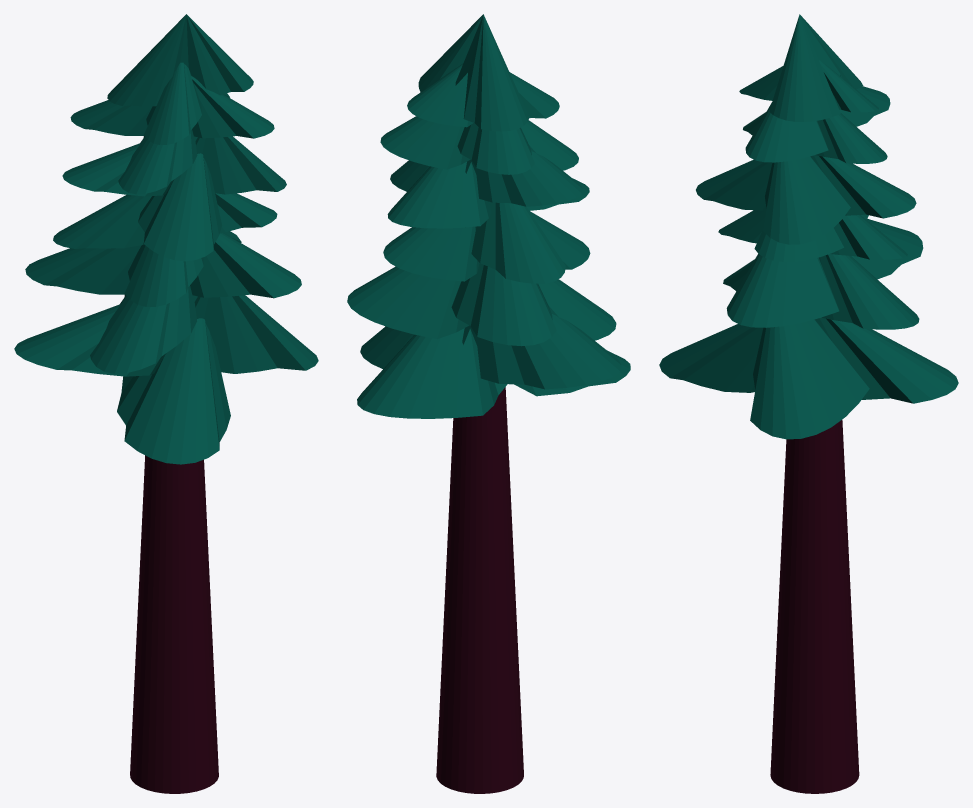
File: tree.glb
3 views of the same model, side by side, from view 1: azimuth 30°, elevation 25°; view 2: azimuth 150°, elevation 25°; view 3: azimuth 270°, elevation 25° (orthographic).
Visible parts, largest first — view 1: Cylinder, Cone.001, Cone.002, Cone.003, Cone.007, Cone.012, Cone.004, Cone.011, Cone.006, Cone.010, Cone.005, Cone.009 (+1 smaller); view 2: Cylinder, Cone.001, Cone.004, Cone.002, Cone.007, Cone.003, Cone.005, Cone.006, Cone.012, Cone.009, Cone.011, Cone.008 (+1 smaller); view 3: Cylinder, Cone.001, Cone.002, Cone.003, Cone.012, Cone.011, Cone.007, Cone.004, Cone.010, Cone.005, Cone.009, Cone.008 (+1 smaller).
Part boxes in pixels (bbox=[...]): Cylinder: bbox=[130, 455, 218, 793]; Cone.001: bbox=[117, 318, 230, 464]; Cone.002: bbox=[14, 295, 318, 376]; Cone.003: bbox=[25, 233, 301, 298]; Cone.007: bbox=[107, 14, 253, 106]; Cone.012: bbox=[138, 153, 222, 261]; Cone.004: bbox=[90, 231, 241, 373]; Cone.011: bbox=[62, 136, 286, 196]; Cone.006: bbox=[53, 193, 277, 248]; Cone.010: bbox=[70, 75, 274, 138]; Cone.005: bbox=[124, 244, 203, 306]; Cone.009: bbox=[118, 93, 229, 194]; Cylinder: bbox=[436, 387, 523, 793]; Cone.001: bbox=[357, 328, 630, 418]; Cone.004: bbox=[347, 266, 616, 340]; Cone.002: bbox=[360, 314, 621, 389]; Cone.007: bbox=[418, 14, 529, 131]; Cone.003: bbox=[451, 263, 556, 346]; Cone.005: bbox=[383, 211, 590, 281]; Cone.006: bbox=[471, 202, 565, 283]; Cone.012: bbox=[387, 162, 589, 228]; Cone.009: bbox=[380, 116, 578, 170]; Cone.011: bbox=[390, 151, 582, 206]; Cone.008: bbox=[407, 63, 559, 127]; Cylinder: bbox=[770, 420, 859, 793]; Cone.001: bbox=[659, 317, 958, 403]; Cone.002: bbox=[750, 319, 869, 439]; Cone.003: bbox=[726, 219, 923, 327]; Cone.012: bbox=[696, 155, 916, 218]; Cone.011: bbox=[762, 156, 850, 244]; Cone.007: bbox=[769, 14, 863, 121]; Cone.004: bbox=[723, 254, 919, 329]; Cone.010: bbox=[745, 86, 890, 162]; Cone.005: bbox=[718, 210, 907, 259]; Cone.009: bbox=[743, 112, 887, 163]; Cone.008: bbox=[739, 60, 878, 112].
Bounding box in the file's own units: 7.1 × 18.95 × 6.74.
